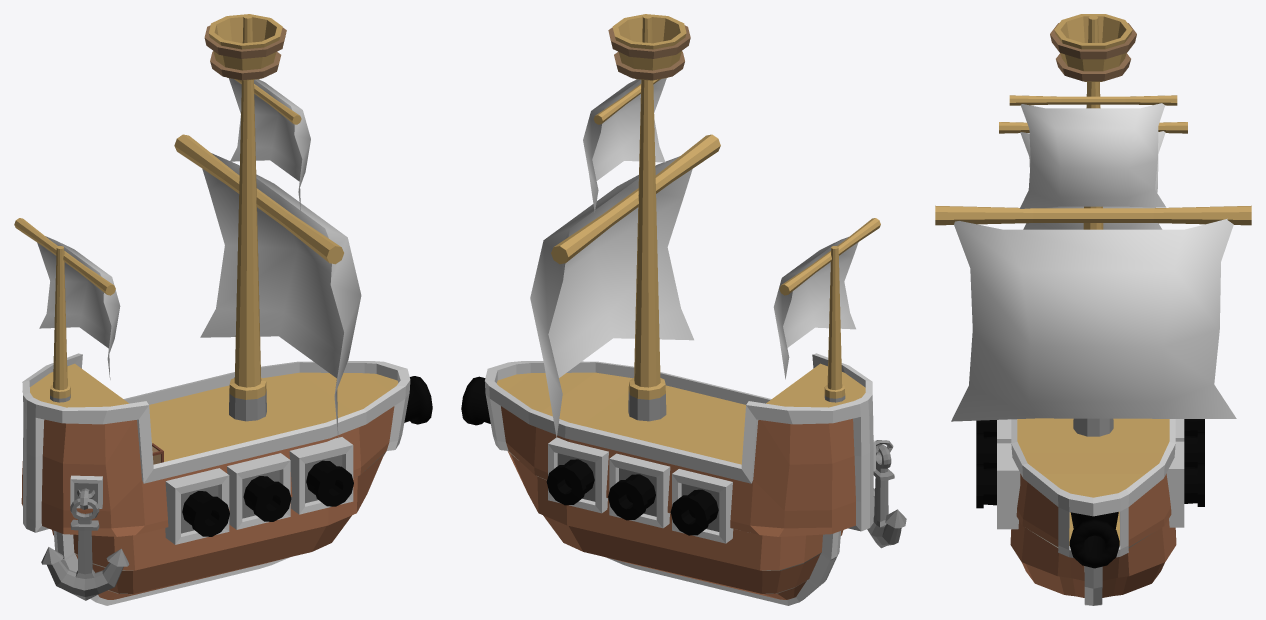
File: Simple Pirate Ship.fbx
3 renders of one model, left to right at view 1: azimuth 30°, elevation 25°; view 2: azimuth 150°, elevation 25°; view 3: azimuth 270°, elevation 25°, orthographic. The views are drawn at different scales.
Visible parts, largest first — view 1: Ship; view 2: Ship; view 3: Ship.
Boxes of the visible parts, bbox=[...] form: Ship: bbox=[14, 14, 432, 605]; Ship: bbox=[461, 14, 906, 605]; Ship: bbox=[935, 14, 1251, 605].
Size of the model in its own units: 773 by 1007 by 504.
